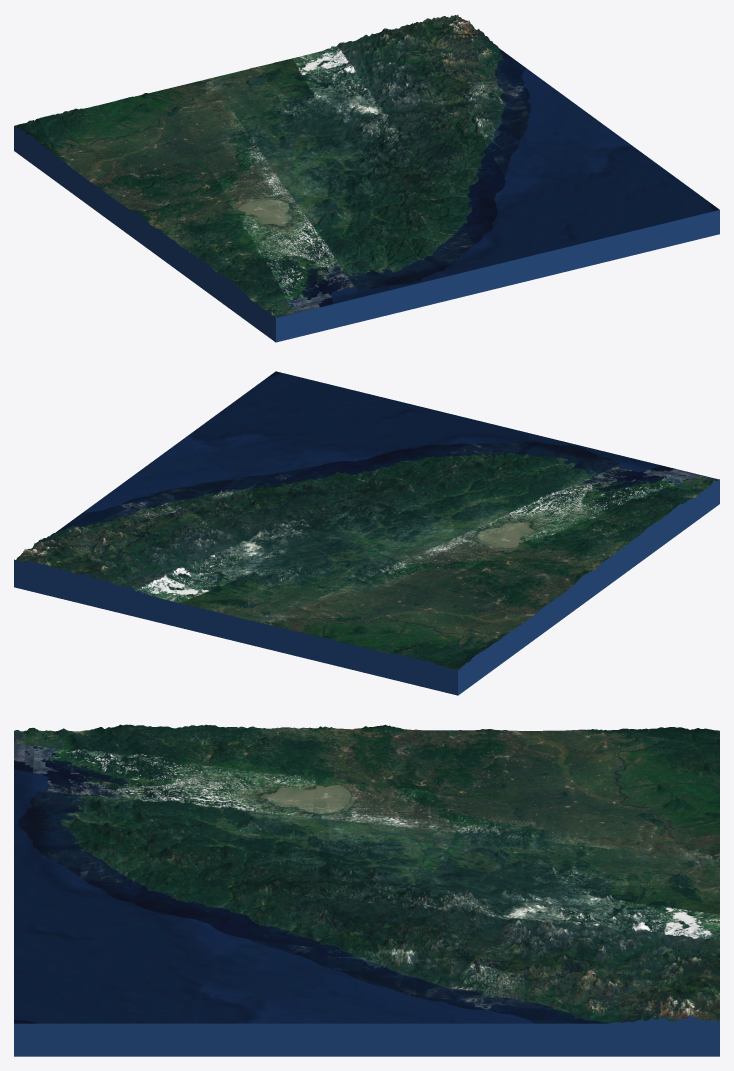
The model's file is primorye.glb.
The picture shows the model from 3 angles, top to bottom: view 1: azimuth 30°, elevation 25°; view 2: azimuth 150°, elevation 25°; view 3: azimuth 270°, elevation 25°; orthographic projection. The views are drawn at different scales.
Visible parts, largest first — view 1: primorye; view 2: primorye; view 3: primorye.
Part boxes in pixels (bbox=[...]): primorye: bbox=[14, 14, 719, 342]; primorye: bbox=[14, 371, 719, 695]; primorye: bbox=[14, 724, 719, 1056].
Bounding box in the file's own units: 0.42 × 0.0315 × 0.4289.
Materials: 2 (1 with a texture image).
